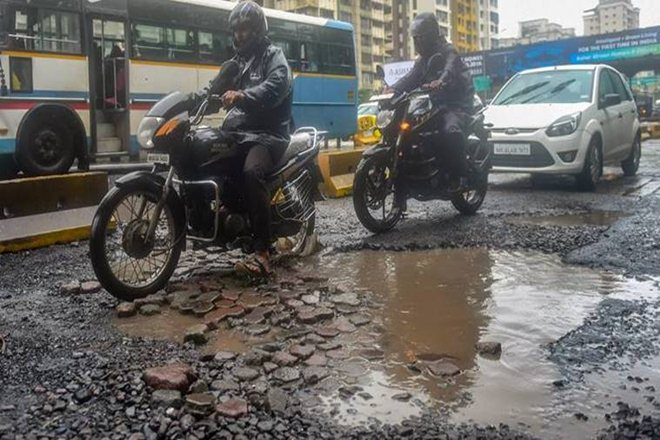pothole: (317, 229, 623, 418)
